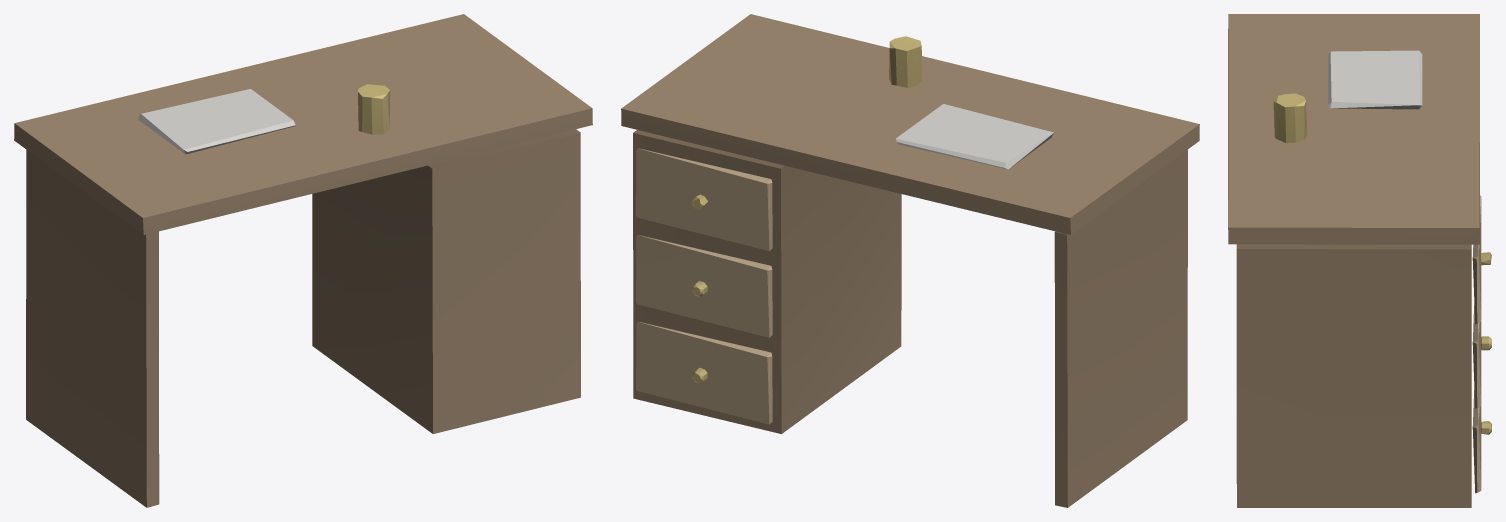
Rendered from furn_desk__walnut_low.glb.
3 renders of one model, left to right at view 1: azimuth 30°, elevation 25°; view 2: azimuth 150°, elevation 25°; view 3: azimuth 270°, elevation 25°, orthographic. The views are drawn at different scales.
Bounding box in the file's own units: 1.19 × 0.8508 × 0.6222.
